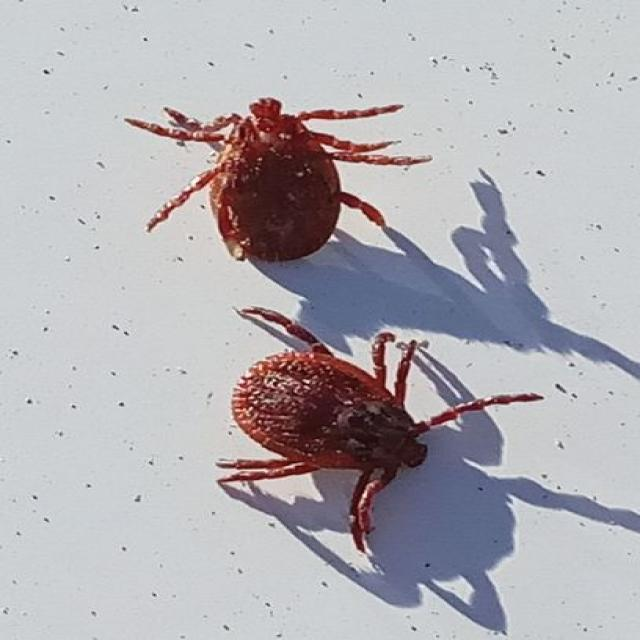Dermacentor Reticulatus-F: (218, 308, 544, 552)
Dermacentor Reticulatus-M: (128, 97, 431, 260)
